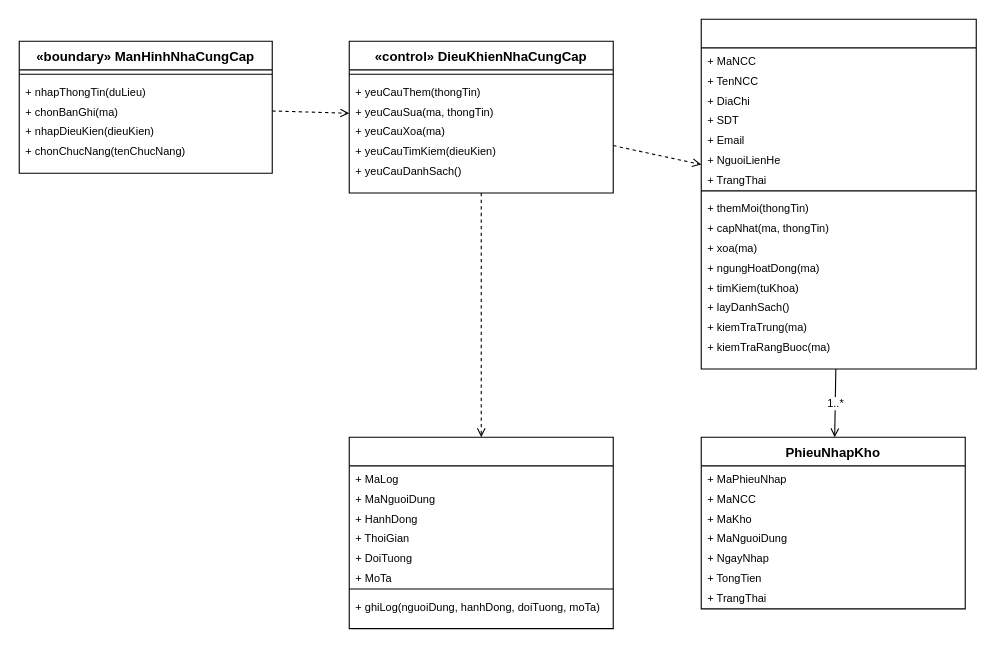
The diagram is 996 pixels wide and 648 high, and some of its shapes have lost their labels. Each missing label, with the box of its shape:
LichSuThaoTac: (348, 436, 613, 629)
NhaCungCap: (700, 18, 976, 369)
